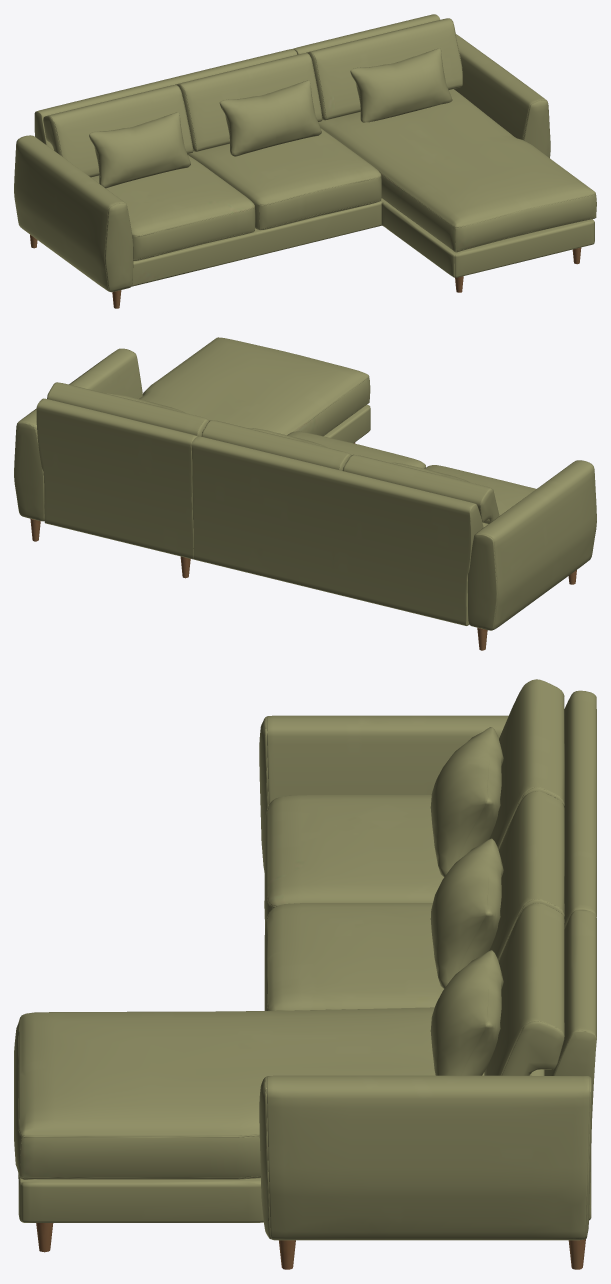
Rendered from ikea-slatorp-chaise.glb.
3 renders of one model, top to bottom at view 1: azimuth 30°, elevation 25°; view 2: azimuth 150°, elevation 25°; view 3: azimuth 270°, elevation 25°, orthographic. The views are drawn at different scales.
Visible parts, largest first — view 1: 99577597_3_seat_sofa_with_chaise_longue, 99577597_3_seat_sofa_with_chaise_longue.001, 99577597_3_seat_sofa_with_chaise_longue.004, 99577597_3_seat_sofa_with_chaise_longue.002, 99577597_3_seat_sofa_with_chaise_longue.003; view 2: 99577597_3_seat_sofa_with_chaise_longue, 99577597_3_seat_sofa_with_chaise_longue.002, 99577597_3_seat_sofa_with_chaise_longue.001, 99577597_3_seat_sofa_with_chaise_longue.003, 99577597_3_seat_sofa_with_chaise_longue.004; view 3: 99577597_3_seat_sofa_with_chaise_longue, 99577597_3_seat_sofa_with_chaise_longue.001, 99577597_3_seat_sofa_with_chaise_longue.004, 99577597_3_seat_sofa_with_chaise_longue.002, 99577597_3_seat_sofa_with_chaise_longue.003.
Part boxes in pixels (box(x1,y1,x2,y2)): 99577597_3_seat_sofa_with_chaise_longue: box(14, 18, 550, 292); 99577597_3_seat_sofa_with_chaise_longue.001: box(318, 89, 596, 277); 99577597_3_seat_sofa_with_chaise_longue.004: box(89, 48, 452, 188); 99577597_3_seat_sofa_with_chaise_longue.002: box(293, 14, 440, 54); 99577597_3_seat_sofa_with_chaise_longue.003: box(30, 235, 581, 308); 99577597_3_seat_sofa_with_chaise_longue: box(14, 348, 596, 630); 99577597_3_seat_sofa_with_chaise_longue.002: box(36, 398, 197, 559); 99577597_3_seat_sofa_with_chaise_longue.001: box(139, 337, 370, 443); 99577597_3_seat_sofa_with_chaise_longue.003: box(30, 442, 576, 650); 99577597_3_seat_sofa_with_chaise_longue.004: box(106, 393, 470, 482); 99577597_3_seat_sofa_with_chaise_longue: box(259, 679, 596, 1240); 99577597_3_seat_sofa_with_chaise_longue.001: box(14, 1007, 484, 1222); 99577597_3_seat_sofa_with_chaise_longue.004: box(430, 727, 503, 1075); 99577597_3_seat_sofa_with_chaise_longue.002: box(544, 910, 596, 1220); 99577597_3_seat_sofa_with_chaise_longue.003: box(36, 1223, 585, 1269).
Size of the model in its own units: 2.56 by 0.7509 by 1.64.
Materials: 1 (1 with a texture image).
